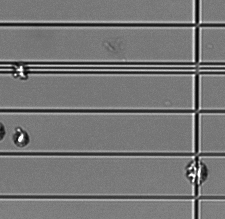Dead Cell: (1, 121, 6, 142)
Living Cell: (186, 159, 208, 185), (12, 127, 30, 148), (13, 62, 31, 82)
